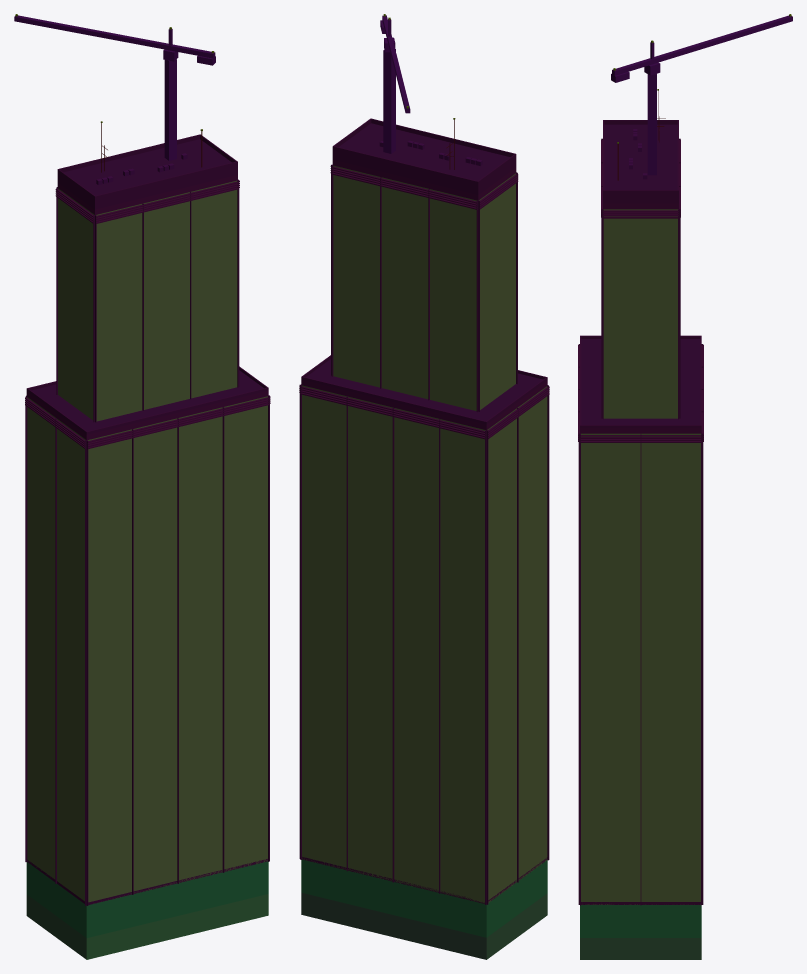
File: tower_g.glb
The picture shows the model from 3 angles, left to right: view 1: azimuth 30°, elevation 25°; view 2: azimuth 150°, elevation 25°; view 3: azimuth 270°, elevation 25°; orthographic projection.
Parts seen in each view (by area): view 1: tower_g; view 2: tower_g; view 3: tower_g.
Boxes of the visible parts, box(x1,y1,x2,y2) form: tower_g: box(14, 14, 270, 959); tower_g: box(299, 14, 549, 959); tower_g: box(578, 14, 792, 959).
Size of the model in its own units: 42.84 by 193 by 42.41.
